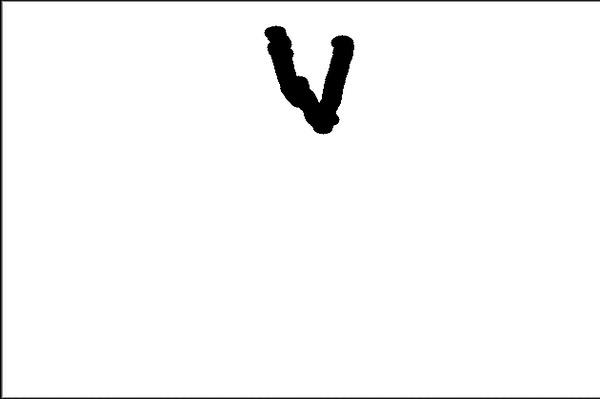V: (257, 18, 365, 141)
